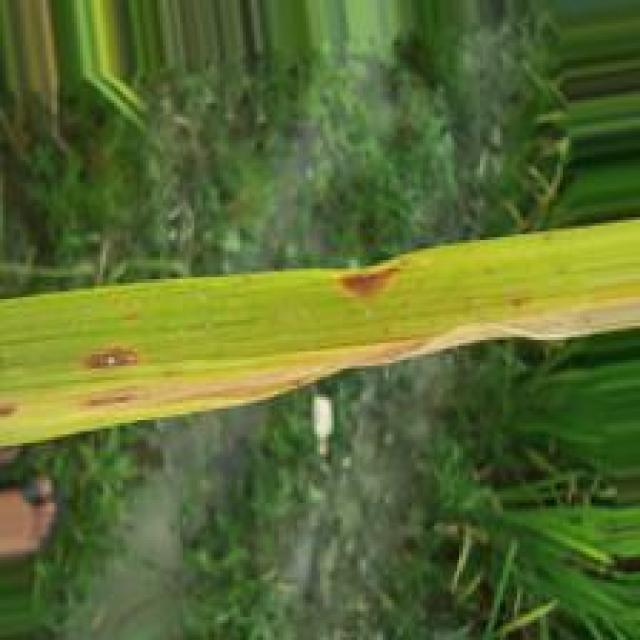Brown_Spot: (329, 265, 408, 308), (68, 343, 147, 377), (73, 391, 149, 414), (0, 401, 23, 419)
